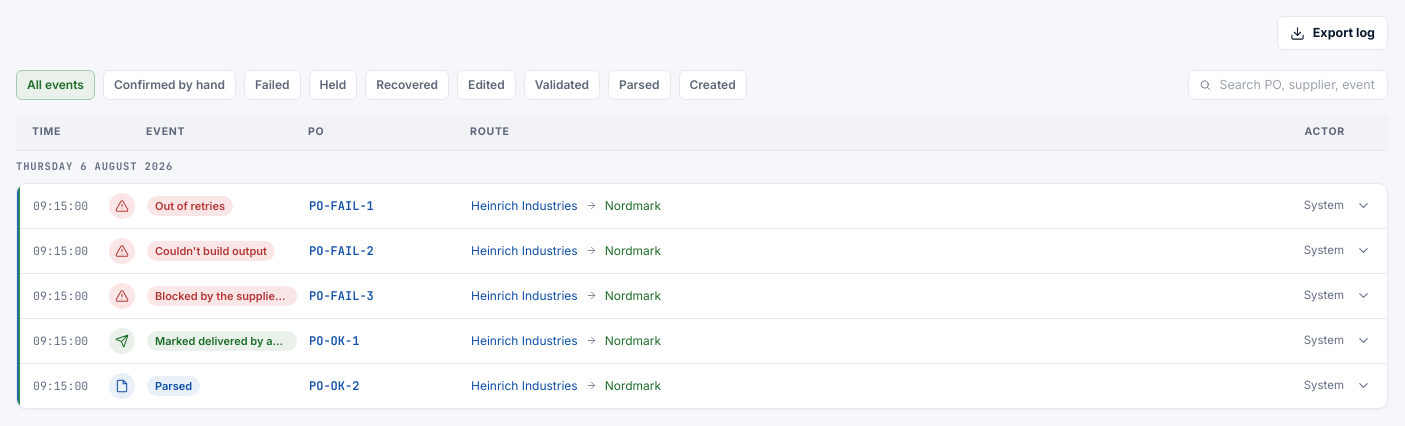
Test case: CrossingsLog — the 'Failed' chip matches real failures › keeps failure rows and drops the others
Check: the text "PO-FAIL-1" is shown, box [309,198,374,214]
Click the button "Failed" at point(272, 85), box [244,70,301,100]
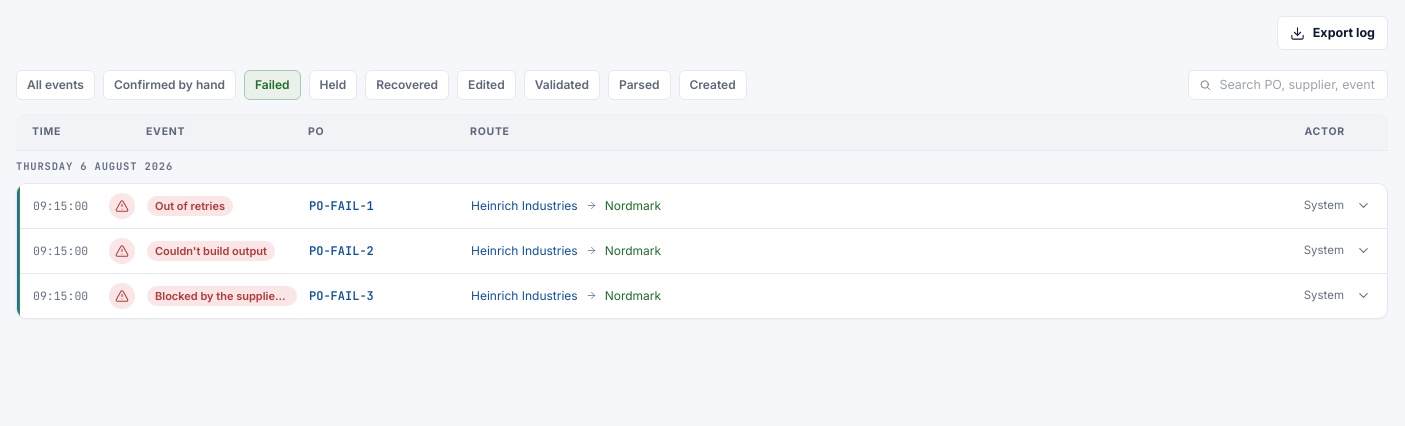
Check: the text "PO-FAIL-1" is shown, box [309,198,374,214]
Check: the button "PO-OK-1" is gone
Check: the button "PO-OK-2" is gone
